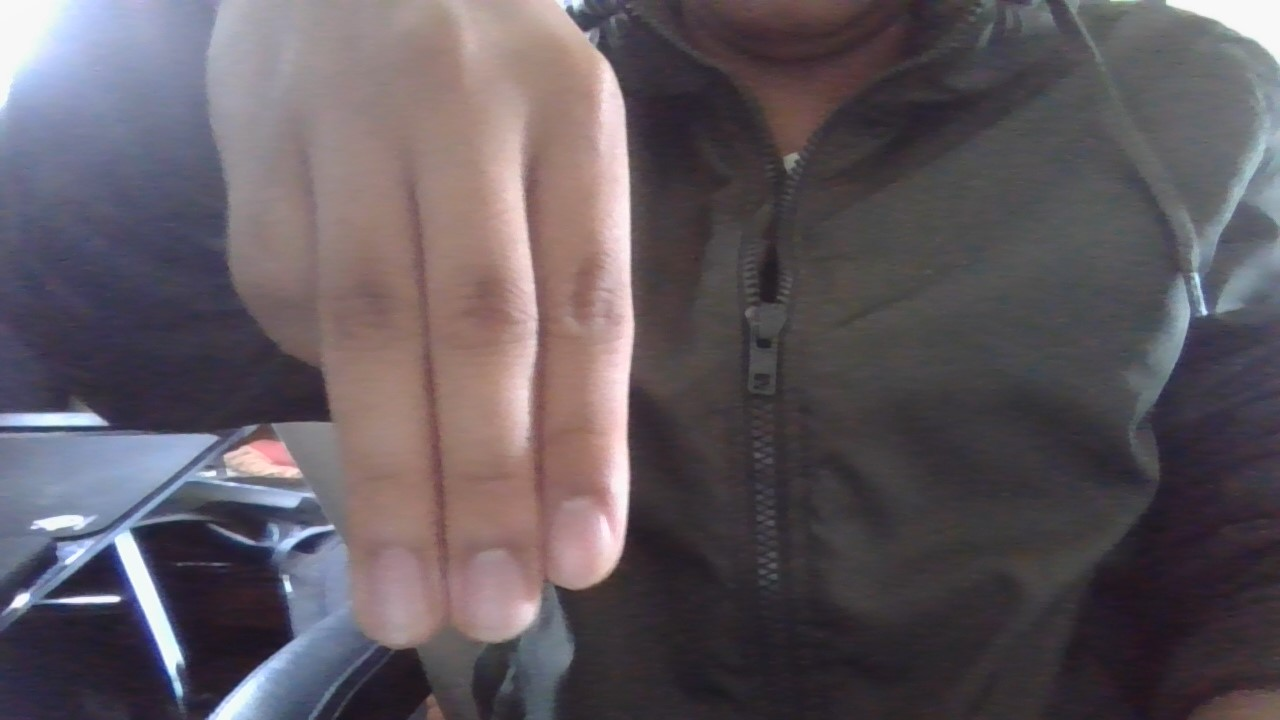m: (172, 1, 685, 654)
